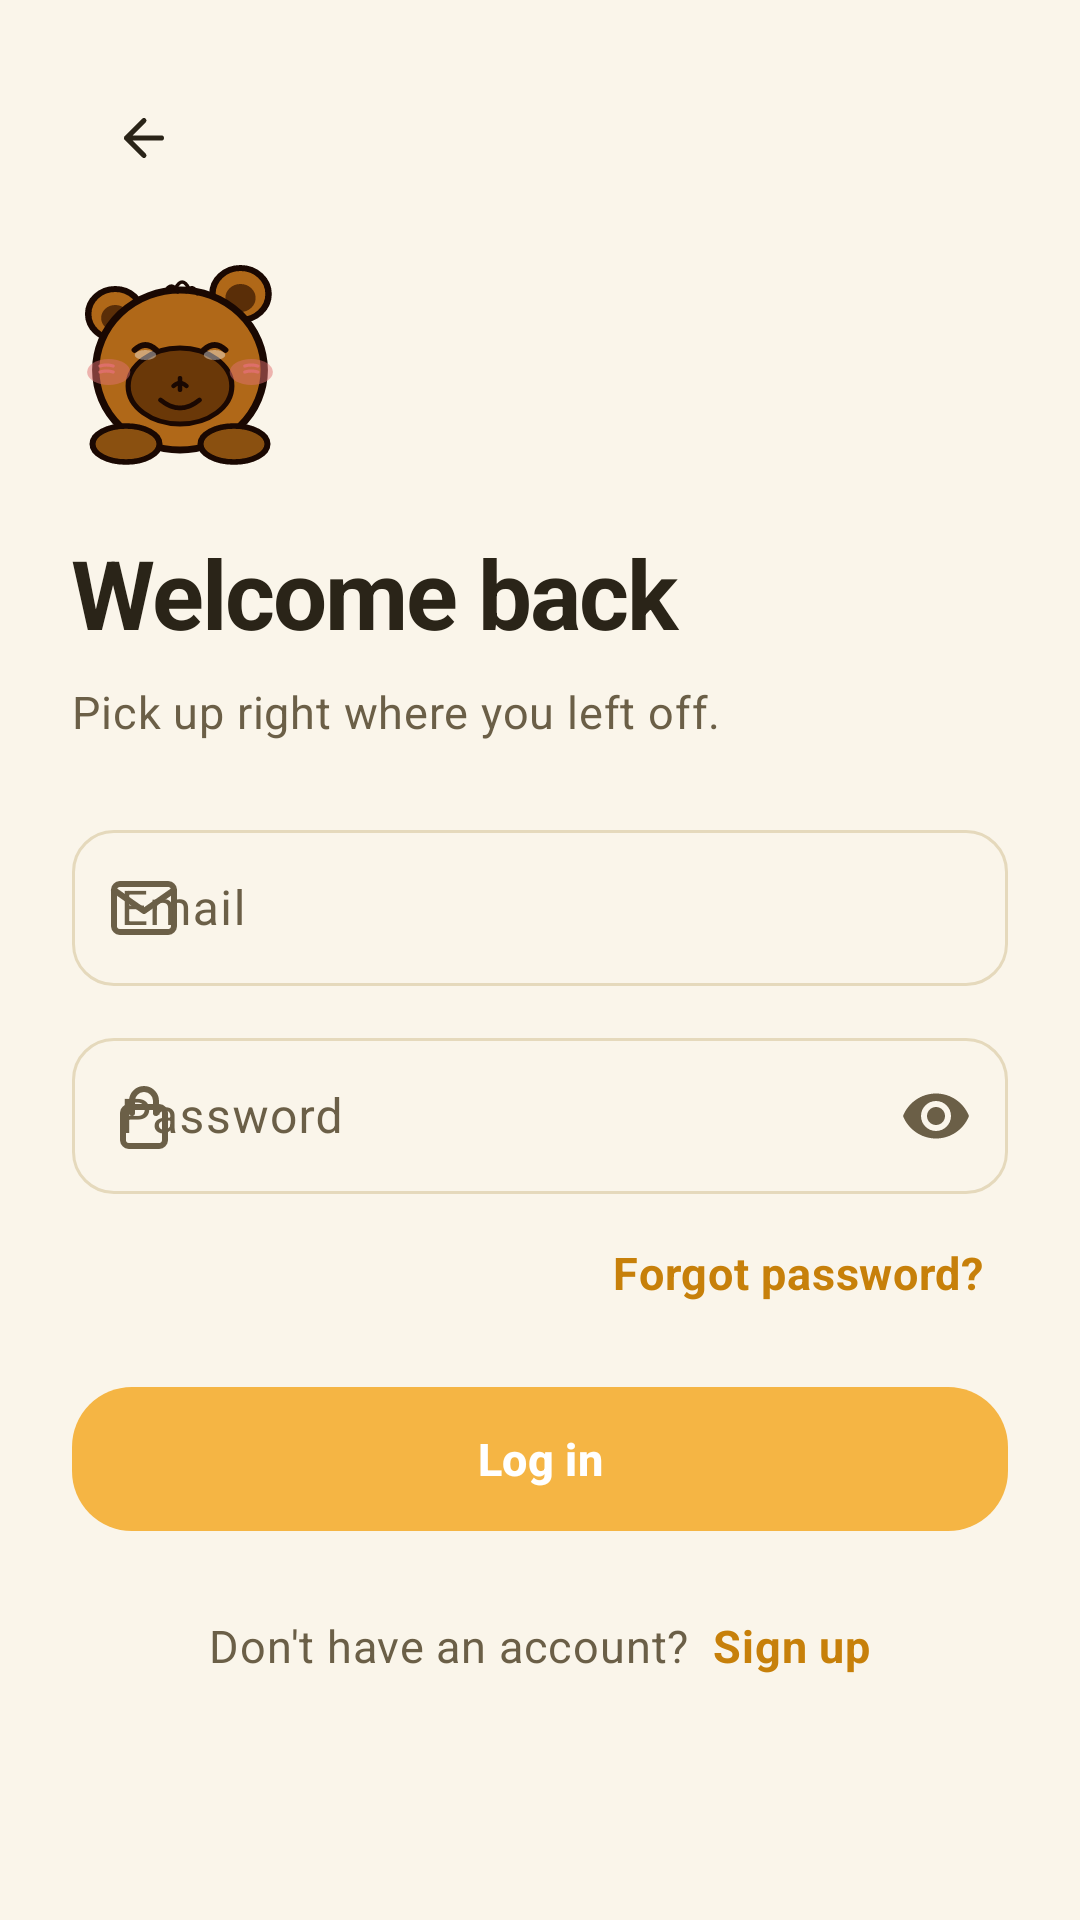

Icons on this 1080 × 1920 Android screen, each with its box as rect(x1, y1, x2, y2):
Back: rect(124, 118, 164, 158)
